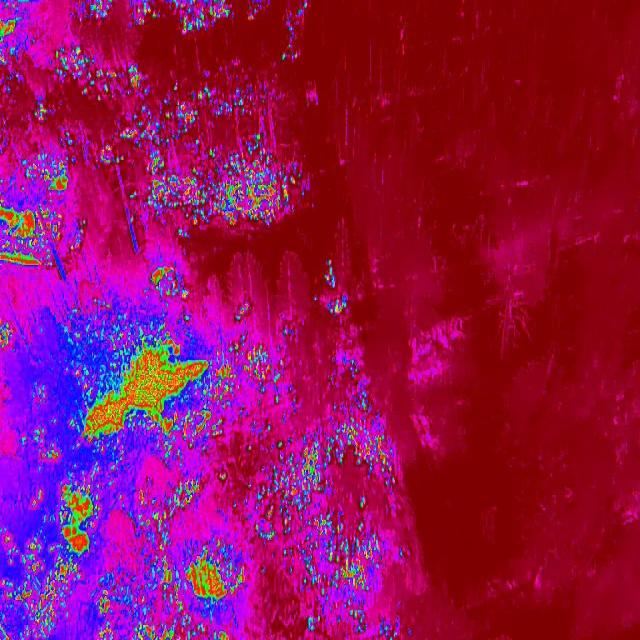fire: (101, 130, 316, 245), (276, 421, 408, 605), (81, 338, 238, 454), (0, 531, 83, 640), (147, 552, 266, 617), (53, 42, 155, 102), (0, 194, 68, 278), (144, 478, 218, 537), (58, 479, 112, 556), (130, 0, 235, 35), (93, 621, 242, 640), (20, 147, 75, 198), (133, 103, 214, 131), (20, 430, 67, 469), (0, 17, 32, 72), (242, 341, 278, 388), (148, 262, 190, 302), (79, 0, 121, 26), (326, 292, 356, 320), (228, 301, 258, 325), (356, 384, 378, 414), (245, 0, 274, 22), (95, 588, 116, 618), (324, 260, 342, 290), (28, 486, 48, 512), (0, 320, 17, 349), (32, 102, 53, 124), (32, 383, 50, 407)
